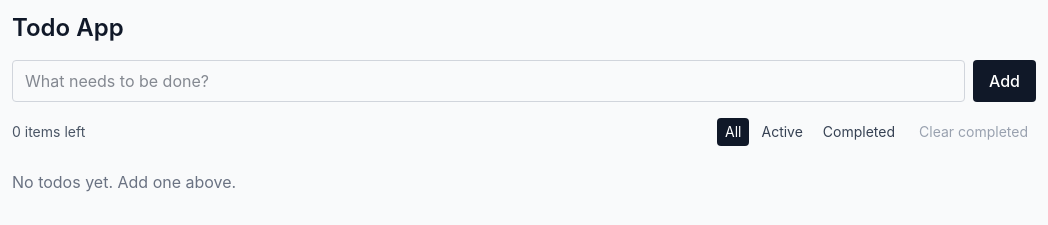
TodoPage › adds a todo and clears the input
Type "Buy milk" into the field named "New todo".
click(488, 81); type("Buy milk")  # box [12,60,965,102]
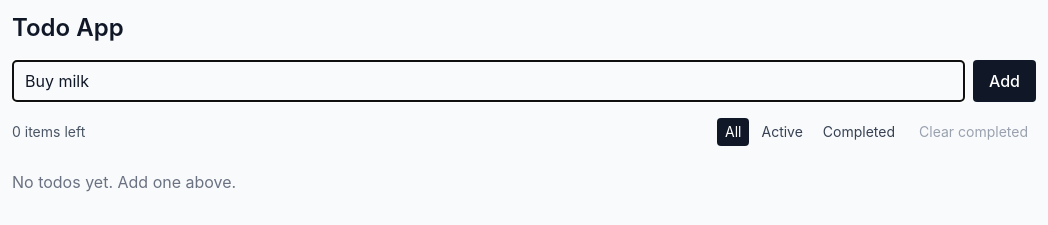
Click the button "Add".
click(1004, 81)  # box [973,60,1036,102]
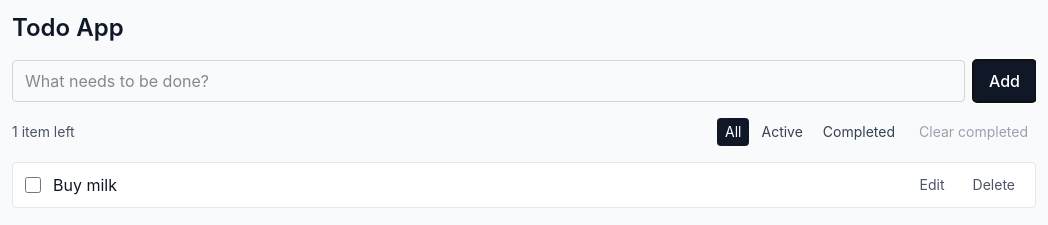
Result: the text "Buy milk" is shown at [53,175,117,195]
Result: the field named "New todo" is empty at [12,60,965,102]
Result: the text "1 item left" is shown at [12,122,75,142]
